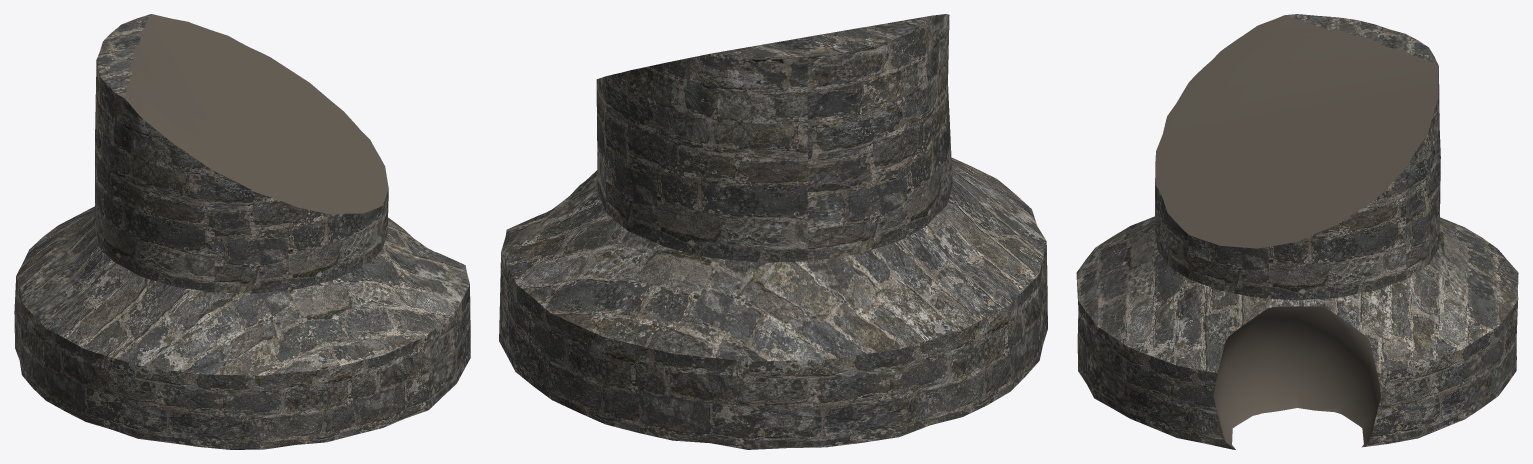
Rendered from column-base-v01.glb.
3 renders of one model, left to right at view 1: azimuth 30°, elevation 25°; view 2: azimuth 150°, elevation 25°; view 3: azimuth 270°, elevation 25°, orthographic. The views are drawn at different scales.
Parts seen in each view (by area): view 1: column-base; view 2: column-base; view 3: column-base.
Part boxes in pixels (x1,y1,x2,y2): column-base: (14, 14, 470, 449); column-base: (499, 14, 1047, 449); column-base: (1076, 14, 1518, 449).
Bounding box in the file's own units: 1.67 × 1.22 × 1.69.
Materials: 1 (1 with a texture image).
